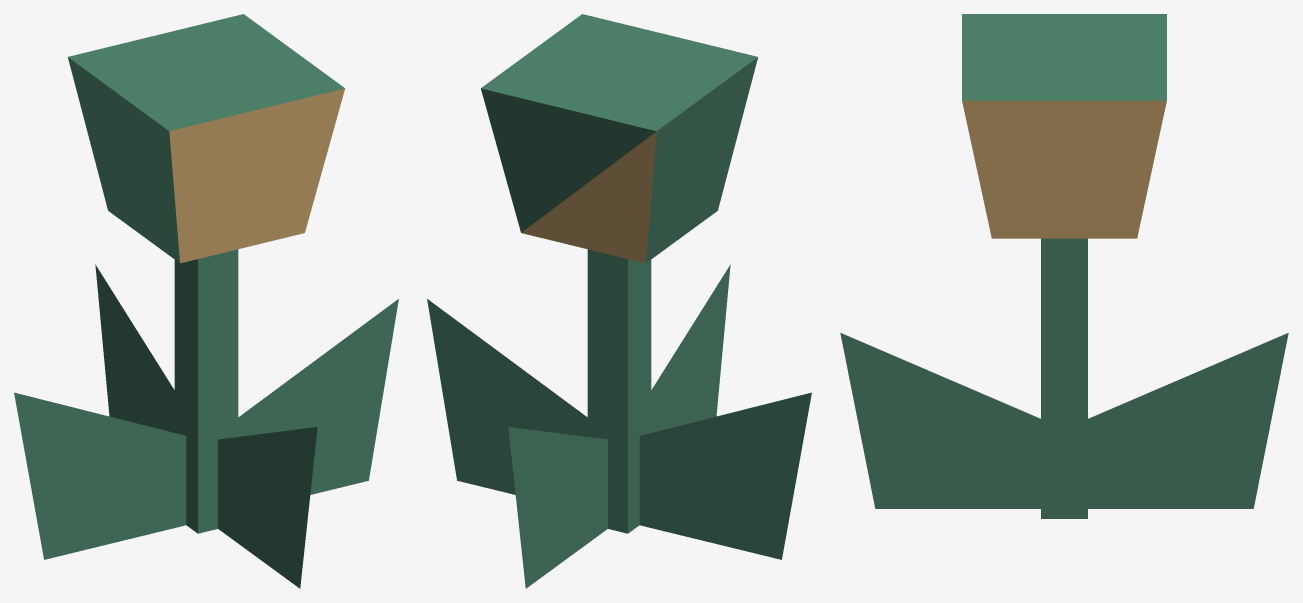
File: naturePack_flat_005.obj
3 renders of one model, left to right at view 1: azimuth 30°, elevation 25°; view 2: azimuth 150°, elevation 25°; view 3: azimuth 270°, elevation 25°, orthographic.
Parts seen in each view (by area): view 1: Mesh1_Flower_Tall_Yellow_Model, Mesh2_Flower_Tall_Yellow_Model, Mesh5_Flower_Tall_Yellow_Model, Mesh3_Flower_Tall_Yellow_Model, Mesh4_Flower_Tall_Yellow_Model; view 2: Mesh1_Flower_Tall_Yellow_Model, Mesh2_Flower_Tall_Yellow_Model, Mesh5_Flower_Tall_Yellow_Model, Mesh4_Flower_Tall_Yellow_Model, Mesh3_Flower_Tall_Yellow_Model; view 3: Mesh1_Flower_Tall_Yellow_Model, Mesh4_Flower_Tall_Yellow_Model, Mesh3_Flower_Tall_Yellow_Model.
Part boxes in pixels (bbox=[...]): Mesh1_Flower_Tall_Yellow_Model: bbox=[68, 14, 344, 533]; Mesh2_Flower_Tall_Yellow_Model: bbox=[14, 392, 186, 559]; Mesh5_Flower_Tall_Yellow_Model: bbox=[238, 299, 398, 494]; Mesh3_Flower_Tall_Yellow_Model: bbox=[218, 427, 317, 588]; Mesh4_Flower_Tall_Yellow_Model: bbox=[95, 264, 174, 432]; Mesh1_Flower_Tall_Yellow_Model: bbox=[481, 14, 757, 533]; Mesh2_Flower_Tall_Yellow_Model: bbox=[639, 392, 811, 559]; Mesh5_Flower_Tall_Yellow_Model: bbox=[427, 299, 587, 494]; Mesh4_Flower_Tall_Yellow_Model: bbox=[508, 427, 607, 588]; Mesh3_Flower_Tall_Yellow_Model: bbox=[651, 264, 730, 432]; Mesh1_Flower_Tall_Yellow_Model: bbox=[962, 14, 1166, 518]; Mesh4_Flower_Tall_Yellow_Model: bbox=[1088, 333, 1288, 508]; Mesh3_Flower_Tall_Yellow_Model: bbox=[840, 333, 1040, 508].
Size of the model in its own units: 0.4859 by 0.54 by 0.4859.
